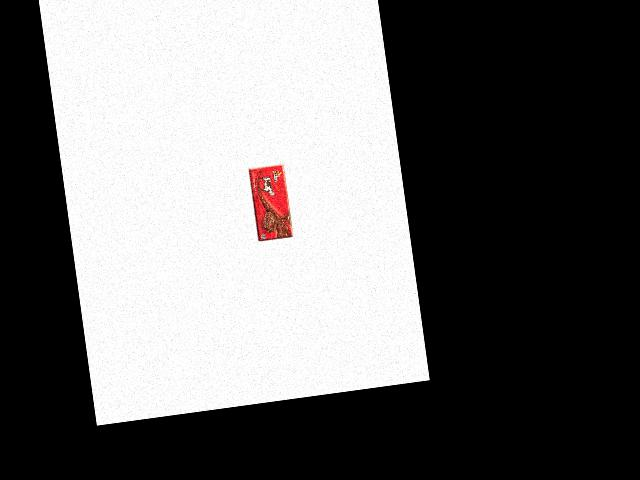chocolate: (244, 161, 295, 244)
